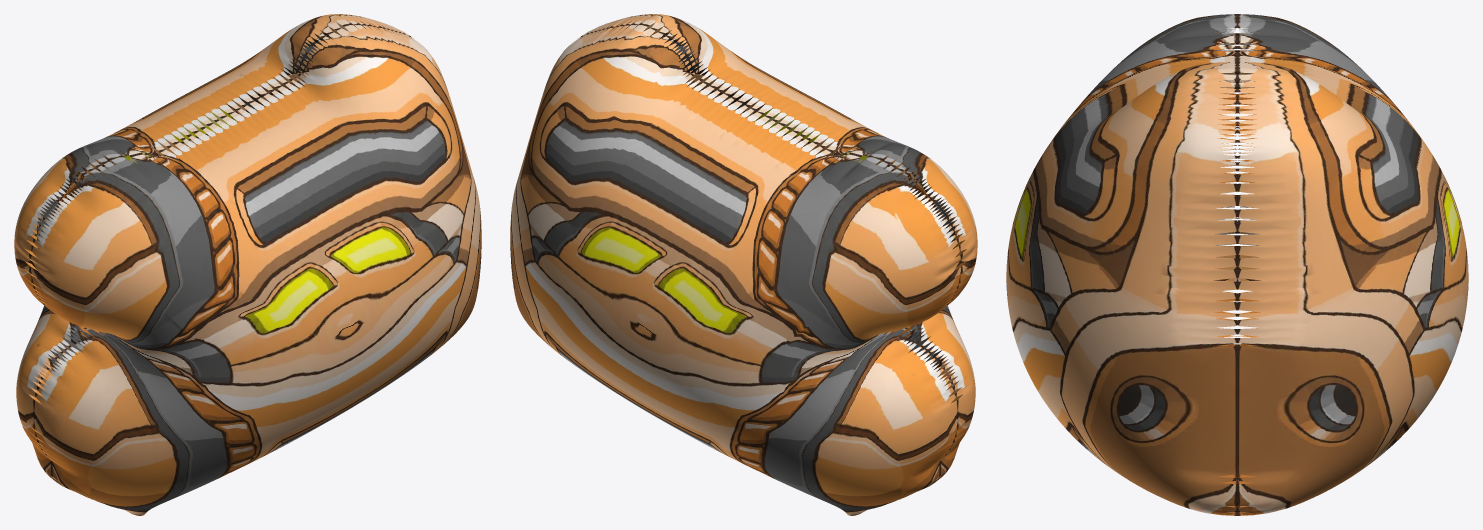
Rendered from twin_conduit_rack.glb.
3 views of the same model, side by side, from view 1: azimuth 30°, elevation 25°; view 2: azimuth 150°, elevation 25°; view 3: azimuth 270°, elevation 25° (orthographic). The views are drawn at different scales.
Parts seen in each view (by area): view 1: twin_conduit_rack; view 2: twin_conduit_rack; view 3: twin_conduit_rack.
Boxes of the visible parts, bbox=[...] form: twin_conduit_rack: bbox=[14, 14, 481, 515]; twin_conduit_rack: bbox=[510, 14, 977, 515]; twin_conduit_rack: bbox=[1006, 14, 1468, 515].
Size of the model in its own units: 0.989 by 0.9171 by 0.7347.
Materials: 1 (1 with a texture image).
